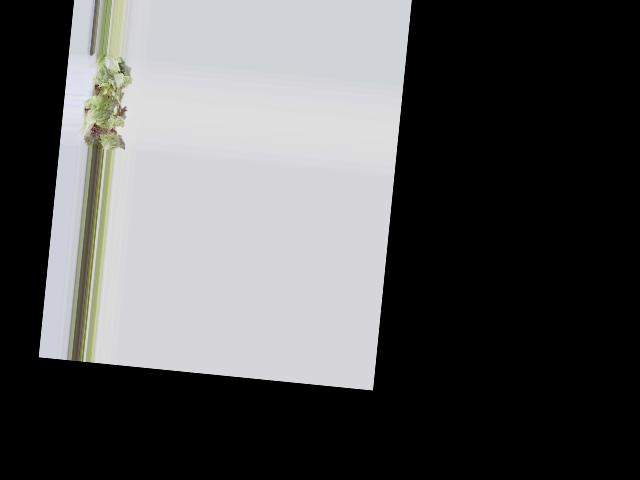lettuce: (86, 58, 130, 148)
